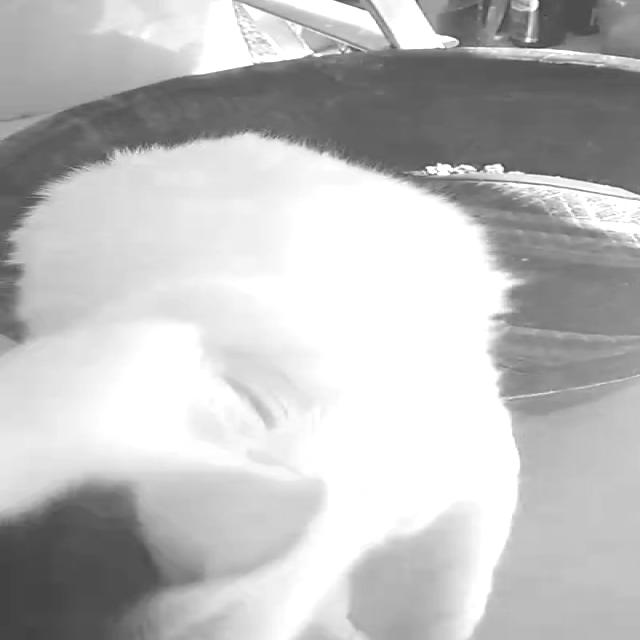Simba: (0, 165, 523, 639)
